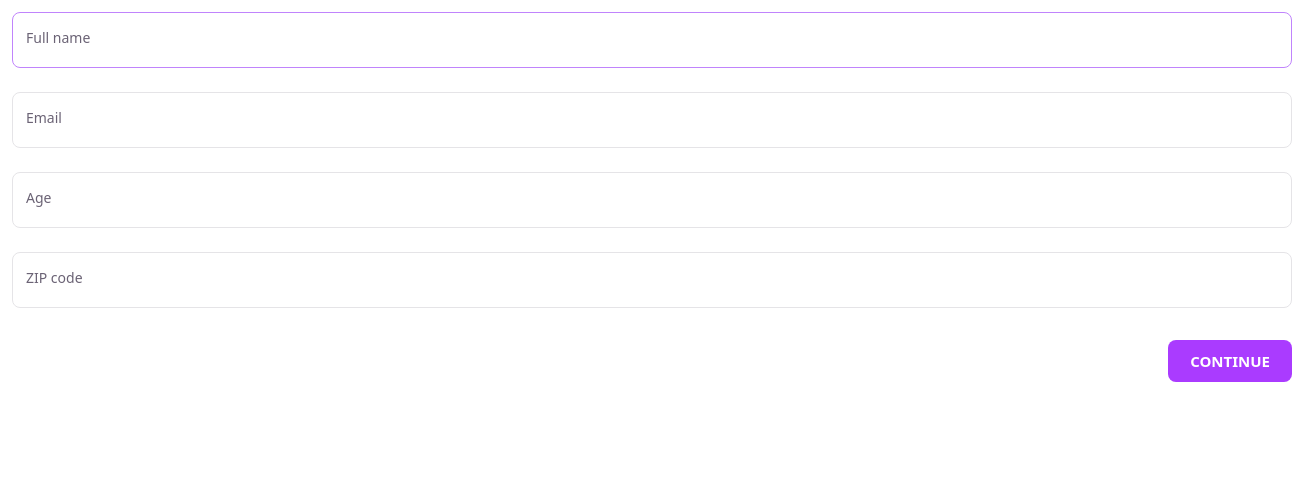
Scenario: PersonalForm › given_emptyFields_when_submitted_then_showsValidationErrors
Click the button "Continue".
click(1230, 361)  # box [1168,340,1292,382]
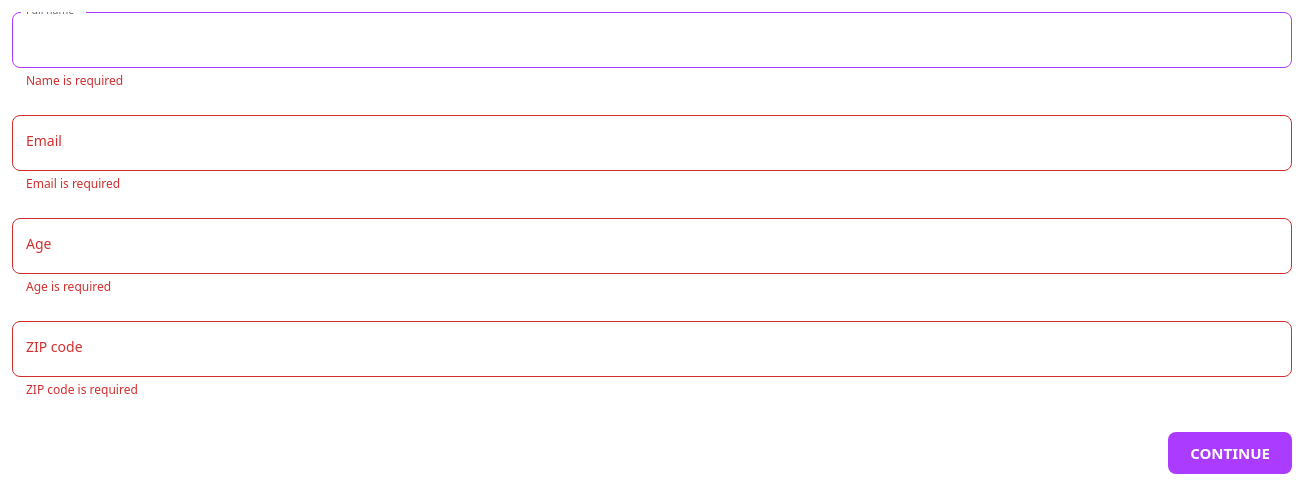
Check: the text "Name is required" is shown, box [26,72,123,89]
Check: the text "Email is required" is shown, box [26,175,120,192]
Check: the text "Age is required" is shown, box [26,278,111,295]
